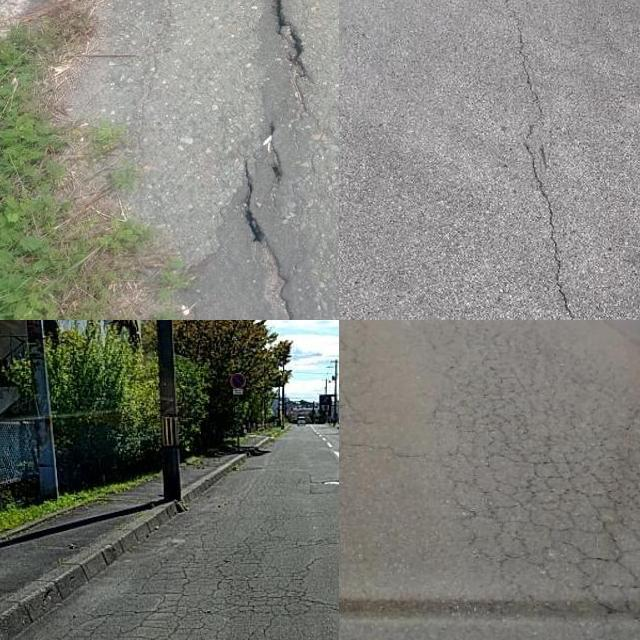Memanjang: (484, 0, 615, 320), (216, 0, 329, 302)
Retak Buaya: (425, 330, 640, 640), (71, 561, 302, 640)
